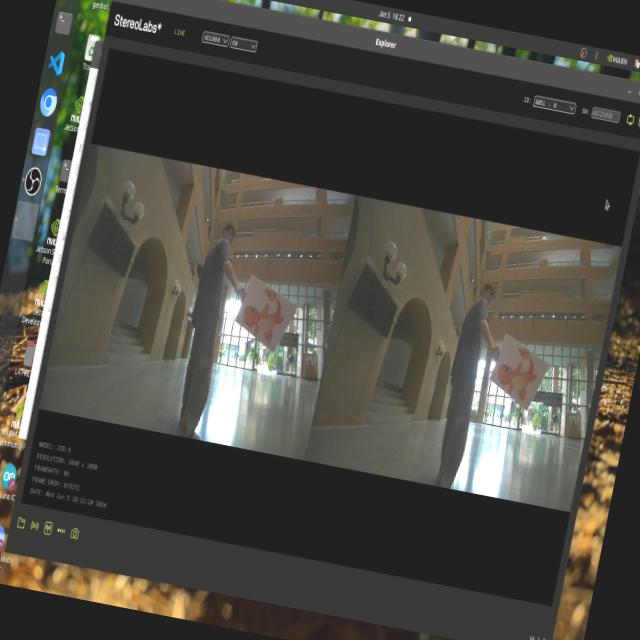red: (233, 280, 298, 348), (492, 332, 544, 399)
